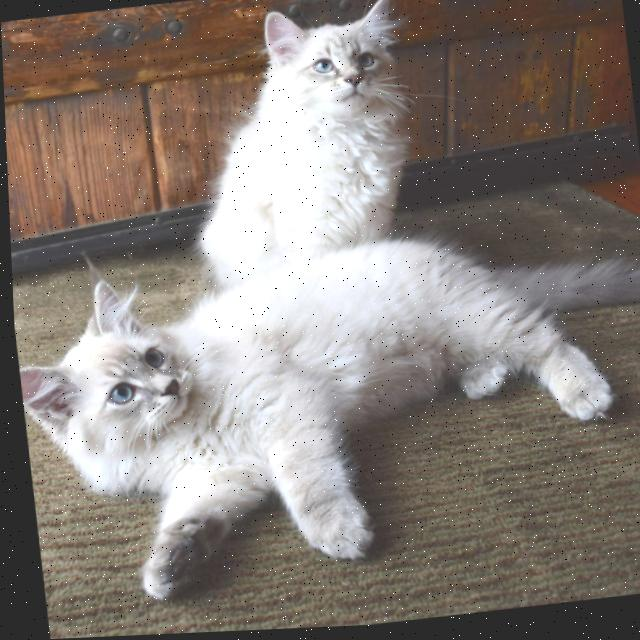Neva Masquerade: (8, 209, 640, 619), (169, 0, 426, 291)
